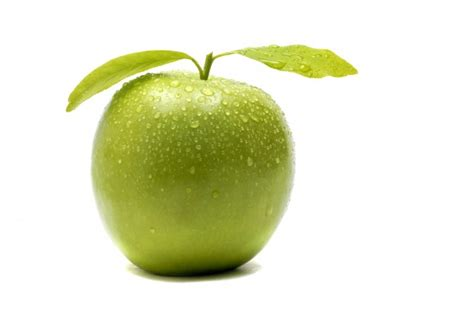apple: (89, 65, 296, 276)
